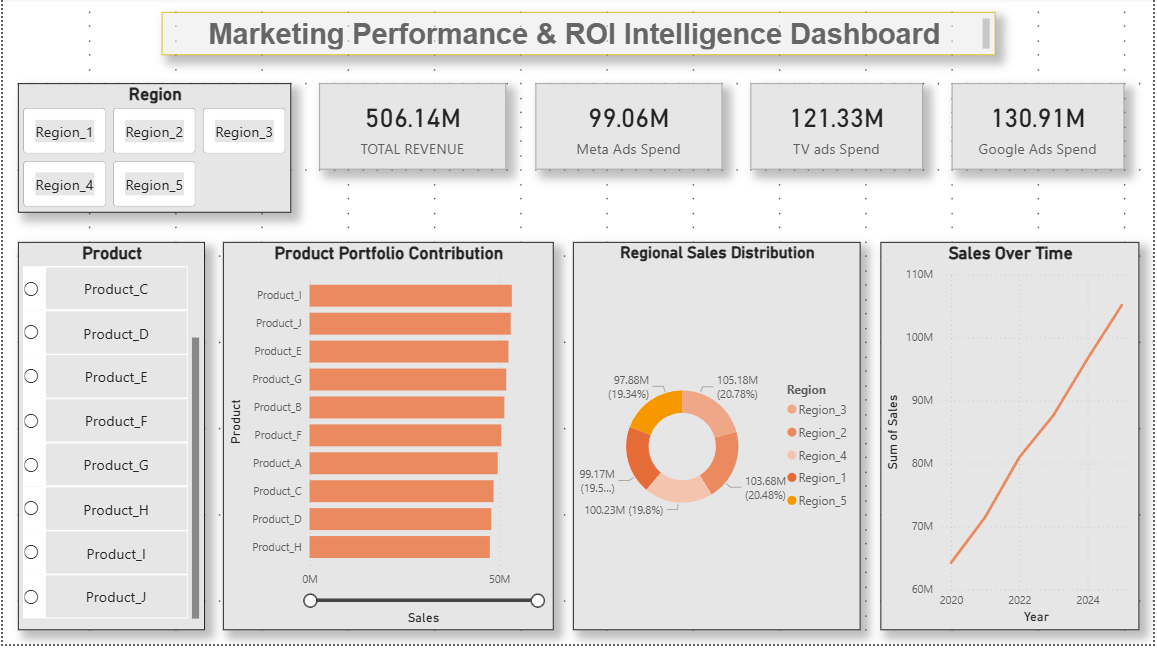

This screenshot's page, from the dashboard's own definition file:
{"tool":"powerbi","page":{"name":"Page 1","canvas":[1280,720],"ordinal":0},"visuals":[{"type":"card","fields":{"Values":["Sum(MARKETING_METRICS_RAW.Sales)"]},"box":[352,96,208,96],"z":0},{"type":"card","fields":{"Values":["Sum(MARKETING_METRICS_RAW.Meta_Ads_Spend)"]},"box":[592,96,208,96],"z":1000},{"type":"card","fields":{"Values":["Sum(MARKETING_METRICS_RAW.TV_Spend)"]},"box":[832,96,192,96],"z":2000},{"type":"card","fields":{"Values":["Sum(MARKETING_METRICS_RAW.Google_Ads_Spend)"]},"box":[1056,96,192,96],"z":3000},{"type":"clusteredBarChart","title":"Product Portfolio Contribution","fields":{"Category":["MARKETING_METRICS_RAW.Product"],"Y":["Sum(MARKETING_METRICS_RAW.Sales)"]},"box":[245.3,272,368,432],"z":4000},{"type":"donutChart","title":"Regional Sales Distribution","fields":{"Category":["MARKETING_METRICS_RAW.Region"],"Y":["Sum(MARKETING_METRICS_RAW.Sales)"]},"box":[634.7,272,320,432],"z":5000},{"type":"lineChart","title":"Sales Over Time","fields":{"Category":["MARKETING_METRICS_RAW.Date.Variation.Date Hierarchy.Year","MARKETING_METRICS_RAW.Date.Variation.Date Hierarchy.Quarter","MARKETING_METRICS_RAW.Date.Variation.Date Hierarchy.Month","MARKETING_METRICS_RAW.Date.Variation.Date Hierarchy.Day"],"Y":["Sum(MARKETING_METRICS_RAW.Sales)"]},"box":[976,272,288,432],"z":6000},{"type":"listSlicer","fields":{"Values":["MARKETING_METRICS_RAW.Product"]},"box":[16,272,208,432],"z":7000},{"type":"advancedSlicerVisual","fields":{"Values":["MARKETING_METRICS_RAW.Region"]},"box":[16,96,304,144],"z":8000},{"type":"textbox","box":[176,16,928,48],"z":9000}]}

Visuals, with their boxes in screenshot pixels (x1, y1, x2, y2), scaled from the page's 1280x720 canvas onto the 1157x652 screenshot:
card - Sum(MARKETING_METRICS_RAW.Sales): (left=318, top=87, right=506, bottom=174)
card - Sum(MARKETING_METRICS_RAW.Meta_Ads_Spend): (left=535, top=87, right=723, bottom=174)
card - Sum(MARKETING_METRICS_RAW.TV_Spend): (left=752, top=87, right=926, bottom=174)
card - Sum(MARKETING_METRICS_RAW.Google_Ads_Spend): (left=955, top=87, right=1128, bottom=174)
"Product Portfolio Contribution" clusteredBarChart: (left=222, top=246, right=554, bottom=638)
"Regional Sales Distribution" donutChart: (left=574, top=246, right=863, bottom=638)
"Sales Over Time" lineChart: (left=882, top=246, right=1143, bottom=638)
listSlicer - MARKETING_METRICS_RAW.Product: (left=14, top=246, right=202, bottom=638)
advancedSlicerVisual - MARKETING_METRICS_RAW.Region: (left=14, top=87, right=289, bottom=217)
textbox: (left=159, top=14, right=998, bottom=58)
